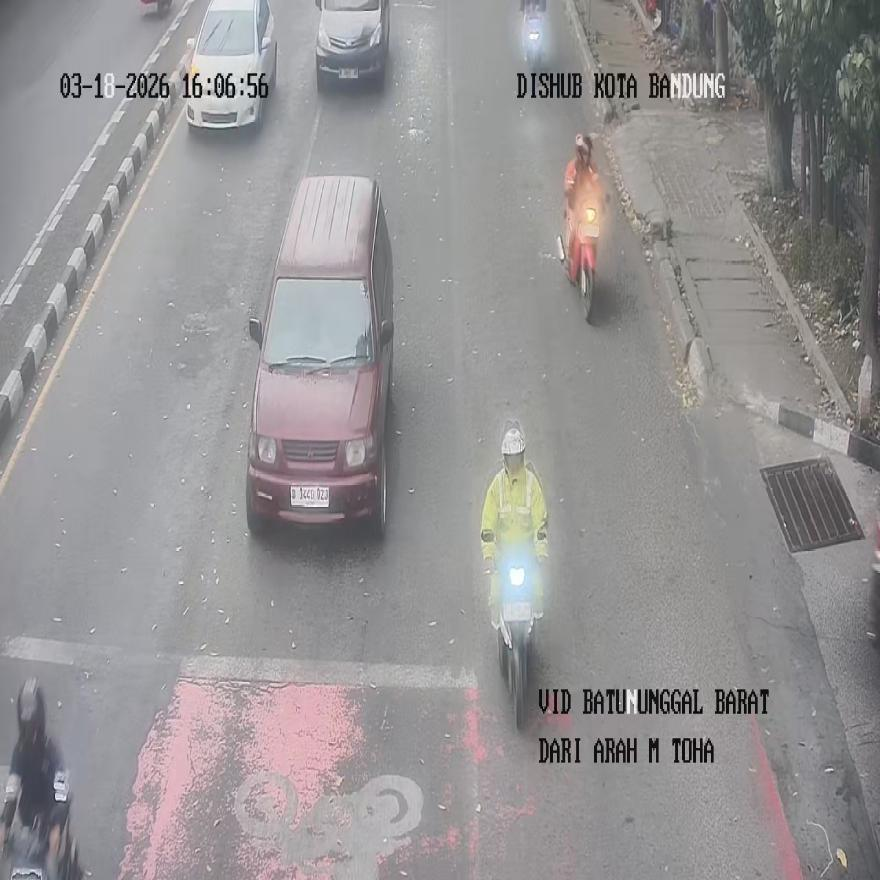Motor: (245, 176, 393, 535), (184, 0, 277, 128), (314, 0, 389, 84)
Truk: (0, 769, 80, 880), (495, 552, 540, 730), (560, 199, 601, 323), (520, 0, 546, 67)
